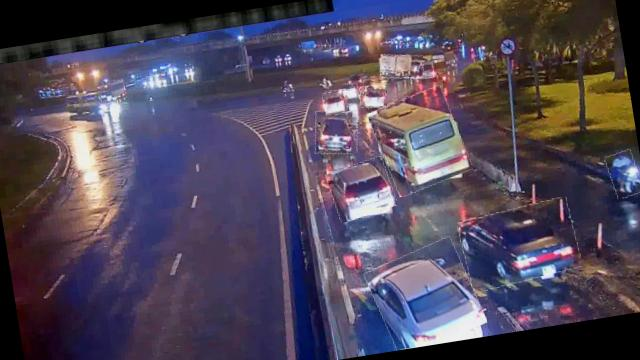Bike: (606, 149, 640, 199)
Bus: (370, 86, 470, 196)
Car: (366, 238, 485, 352), (458, 197, 584, 290), (327, 156, 398, 221), (312, 107, 362, 157), (322, 88, 350, 116), (359, 83, 388, 108)
Truck: (378, 49, 426, 82)
